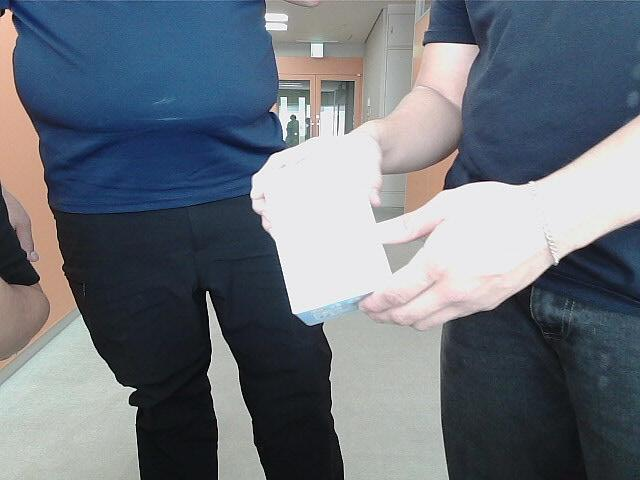Blind_box: (256, 150, 405, 330)
